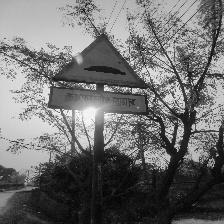Speed-breaker: (48, 34, 149, 115)
